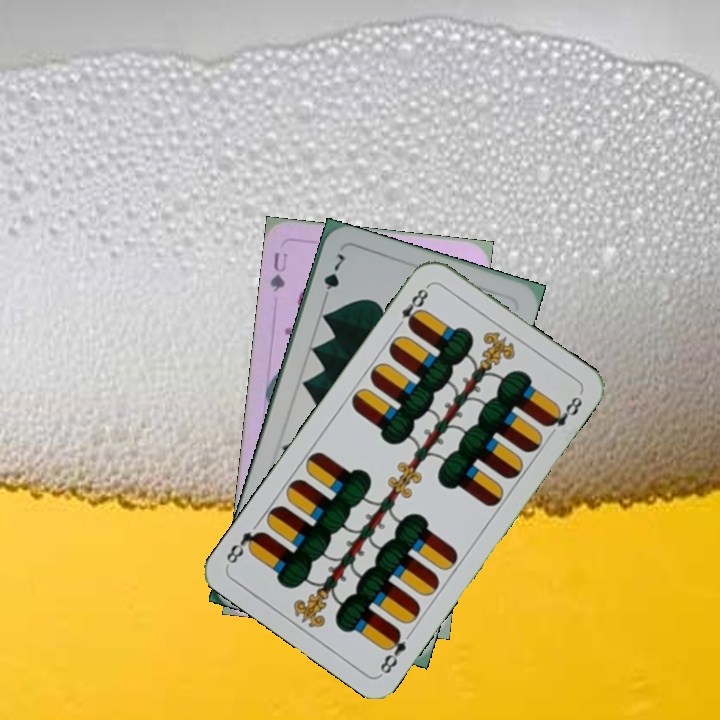E8: (391, 281, 433, 332), (375, 626, 409, 678)
G7: (318, 249, 348, 305)
GU: (266, 248, 290, 295)
